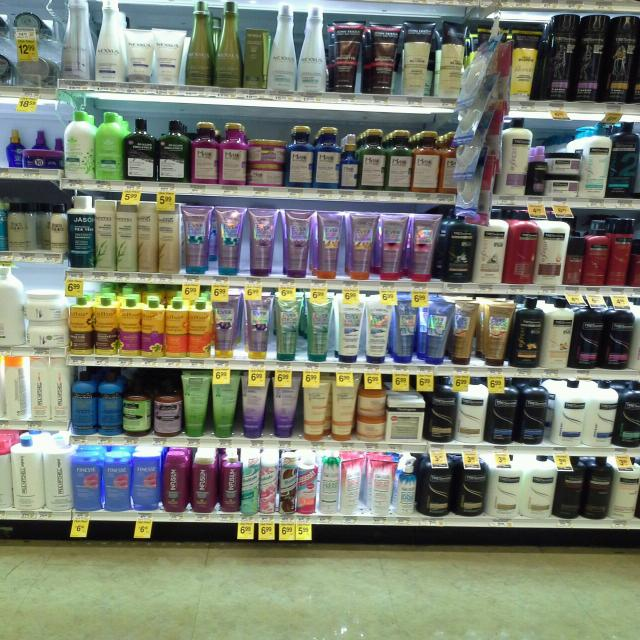unorganised: (393, 295, 480, 366), (436, 22, 471, 96), (340, 457, 365, 519), (31, 201, 49, 251)
